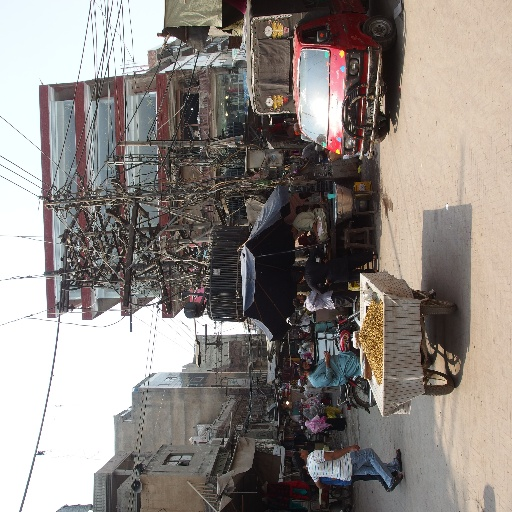hand: (323, 349, 331, 363), (349, 442, 360, 451), (324, 278, 333, 287), (315, 238, 323, 245)
